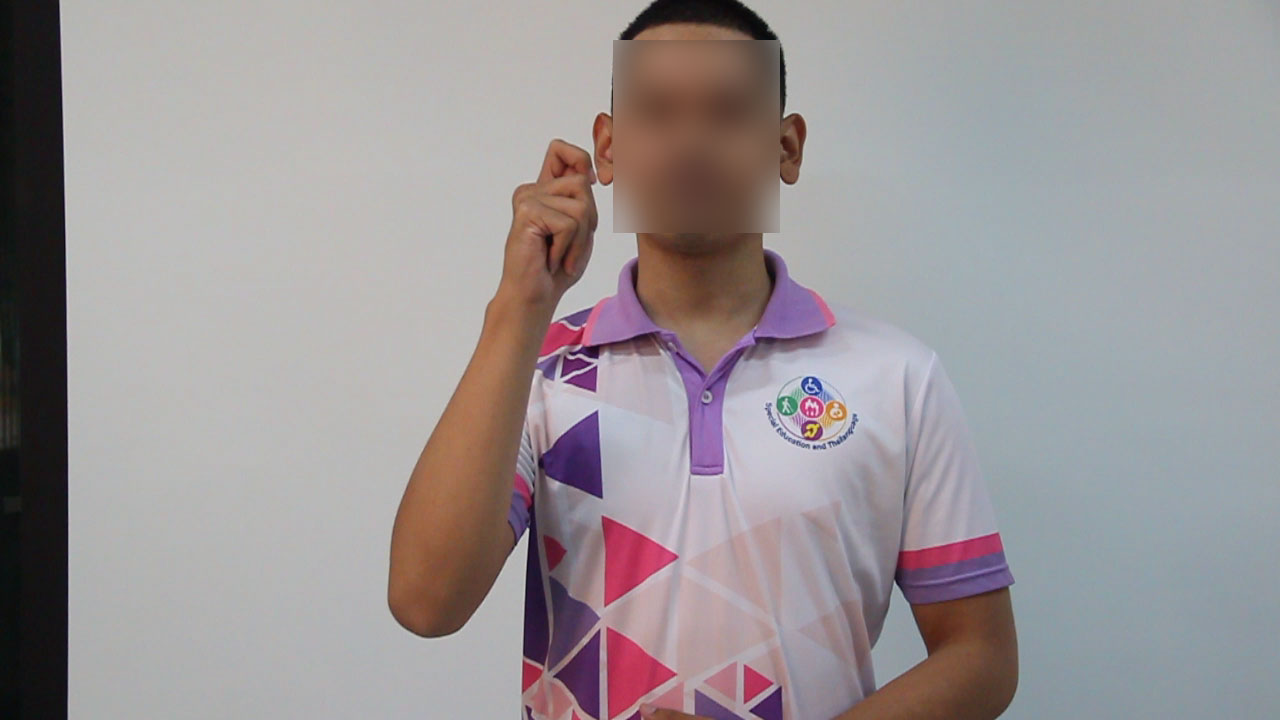or: (499, 134, 603, 333)
